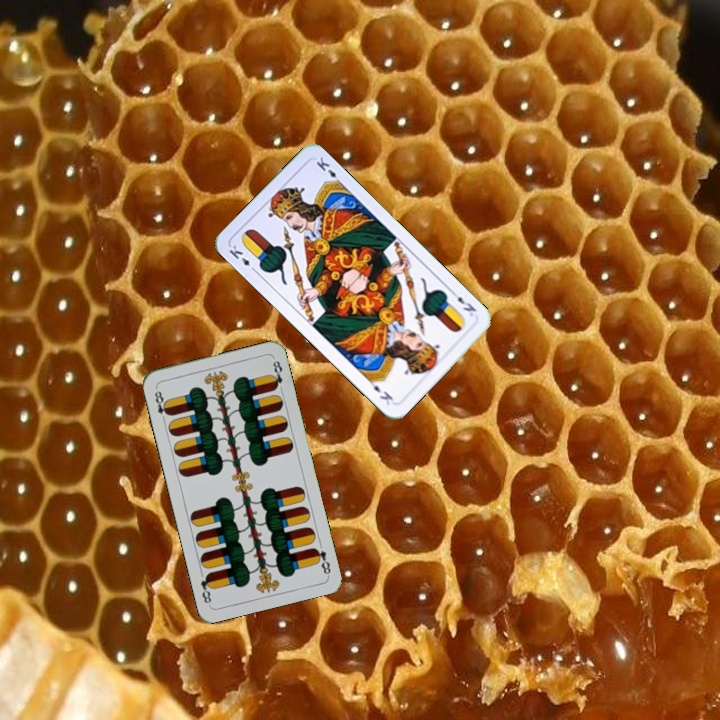E8: (150, 384, 172, 424), (310, 544, 333, 578)
EK: (225, 241, 259, 275), (447, 287, 479, 319)
